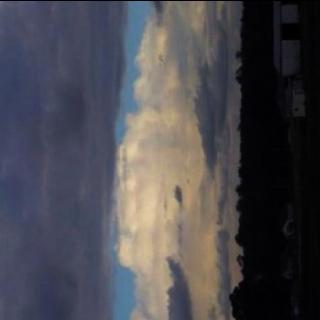Stratocumulus: (0, 0, 248, 320)
